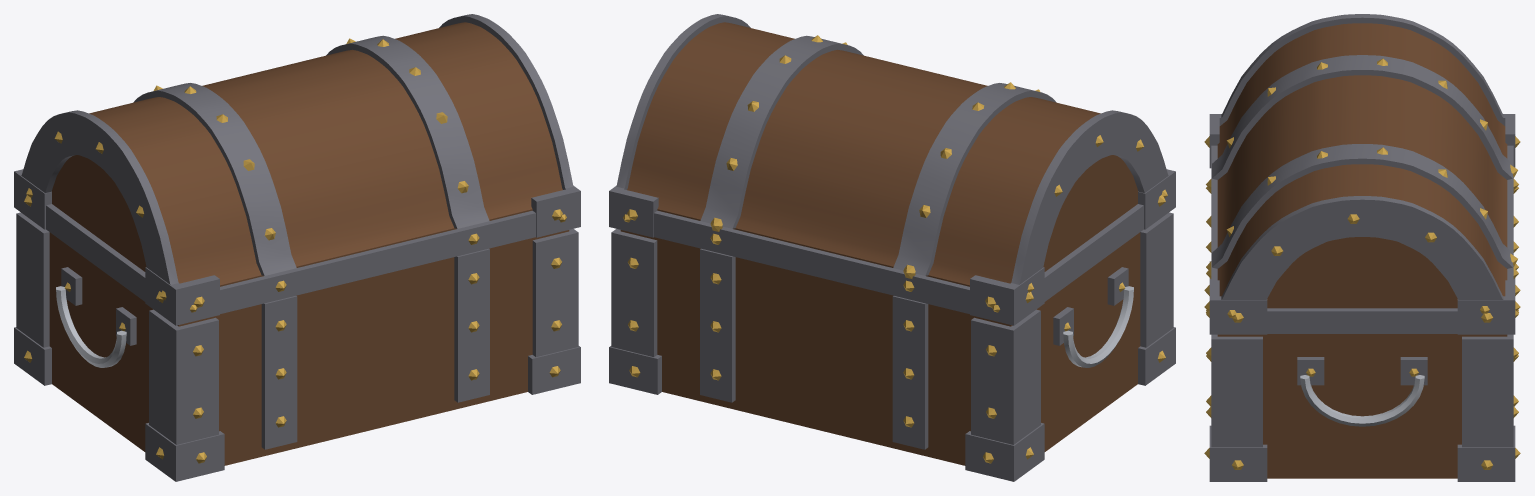
3 views of the same model, side by side, from view 1: azimuth 30°, elevation 25°; view 2: azimuth 150°, elevation 25°; view 3: azimuth 270°, elevation 25° (orthographic). The views are drawn at different scales.
Visible parts, largest first — view 1: movable, fixed; view 2: movable, fixed; view 3: movable, fixed.
Part boxes in pixels (x1,y1,x2,y2): movable: (14,14,580,325); fixed: (14,212,580,481); movable: (609,14,1175,325); fixed: (609,212,1175,481); movable: (1204,14,1520,334); fixed: (1204,186,1520,481).
Bounding box in the file's own units: 0.5 × 0.3427 × 0.3439.
Materials: 1 (1 with a texture image).
